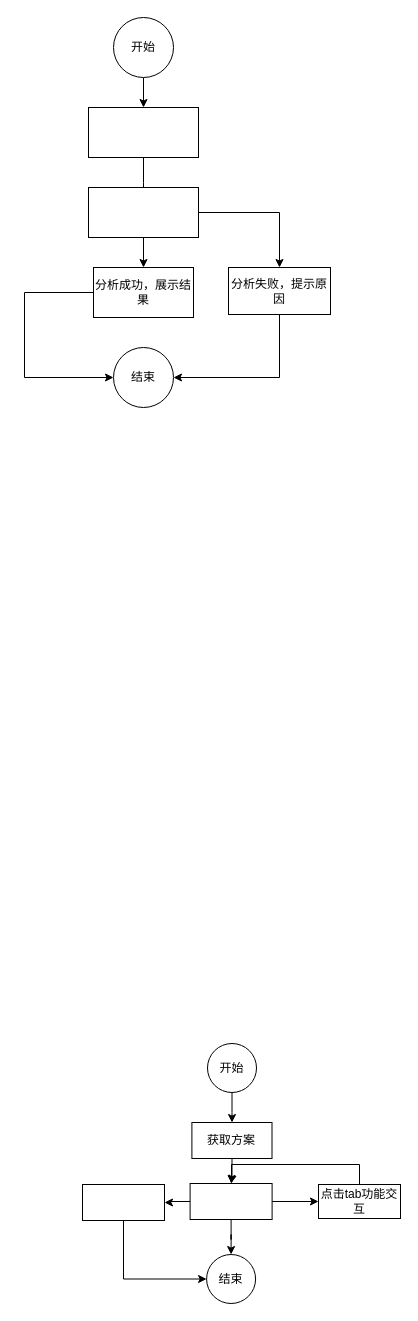
Some shapes in this 418 by 1321 pixel diagram are drawn without their labels. Here are the shapes that lost their labels. From the top down, the centre of each, then its label:
(x=143, y=132): 编辑参数
(x=143, y=212): 进行分析
(x=123, y=1202): 点击图表交互
(x=230, y=1201): 渲染组件
